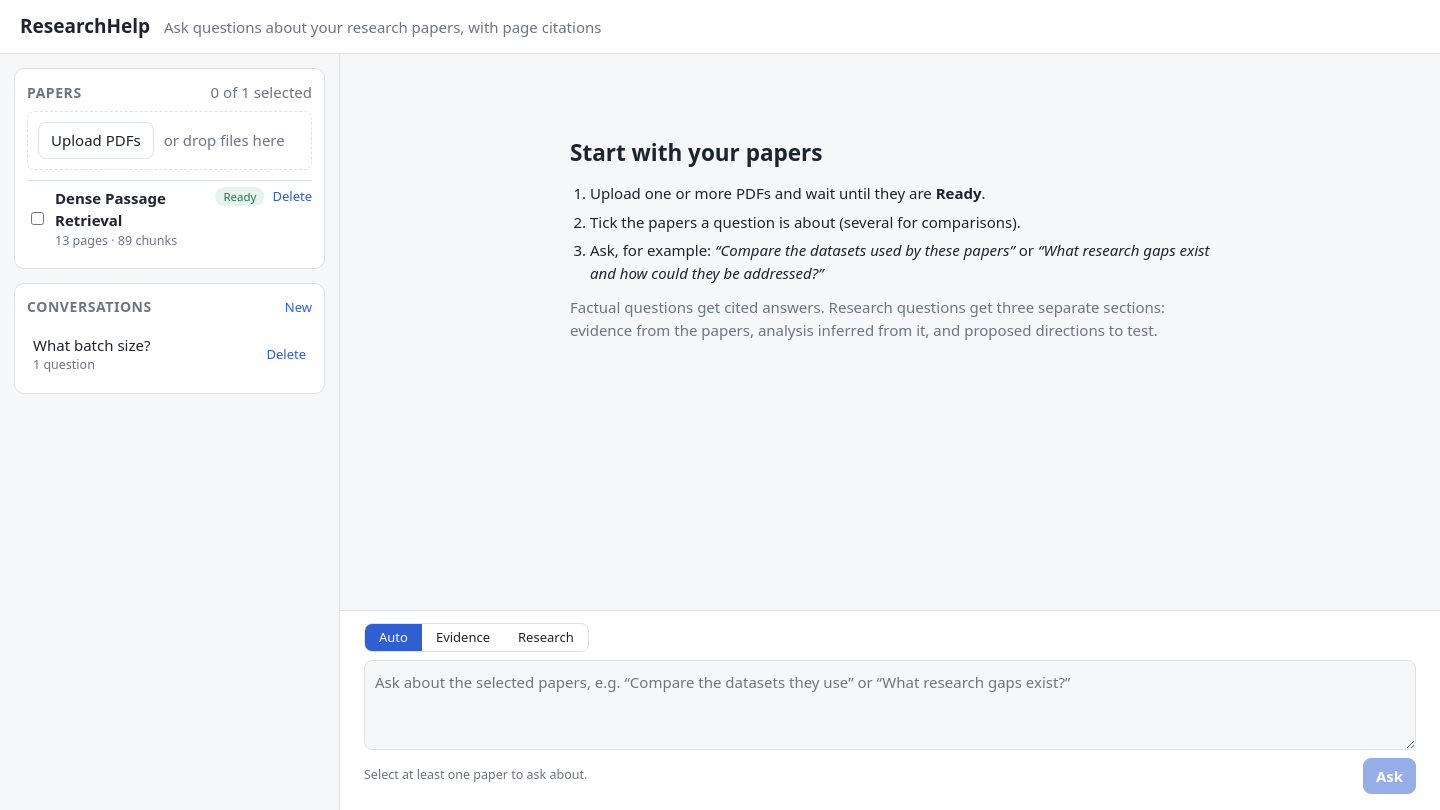
Test: App › deletes a conversation after confirmation and resets the view if it was open
Expected: the text "What batch size?" is shown, x1=33 y1=334 x2=150 y2=356
Click the button with aria-label "Delete conversation".
click(286, 354)  # box x1=266 y1=345 x2=306 y2=364
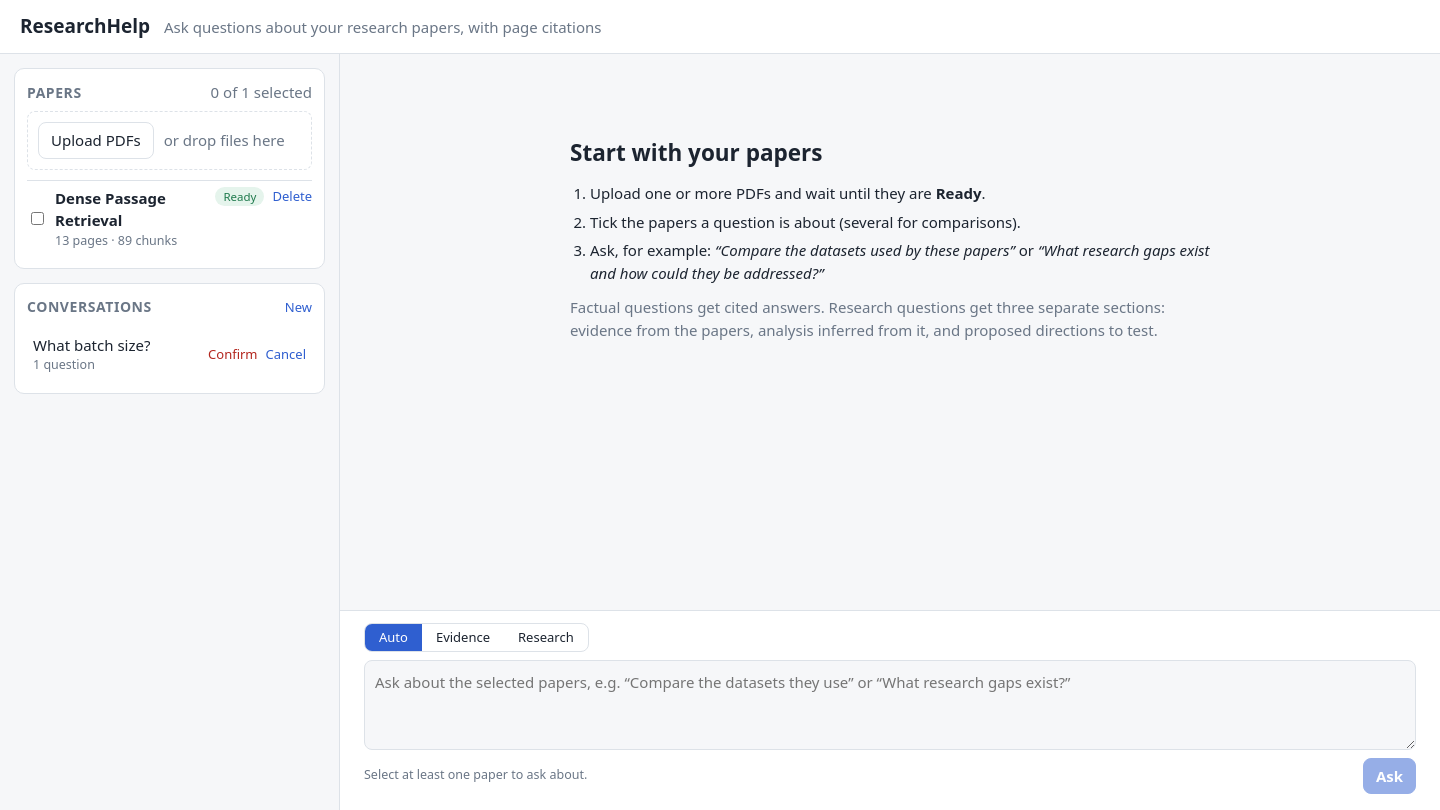
Click the button "Confirm".
click(233, 354)  # box x1=208 y1=345 x2=258 y2=364
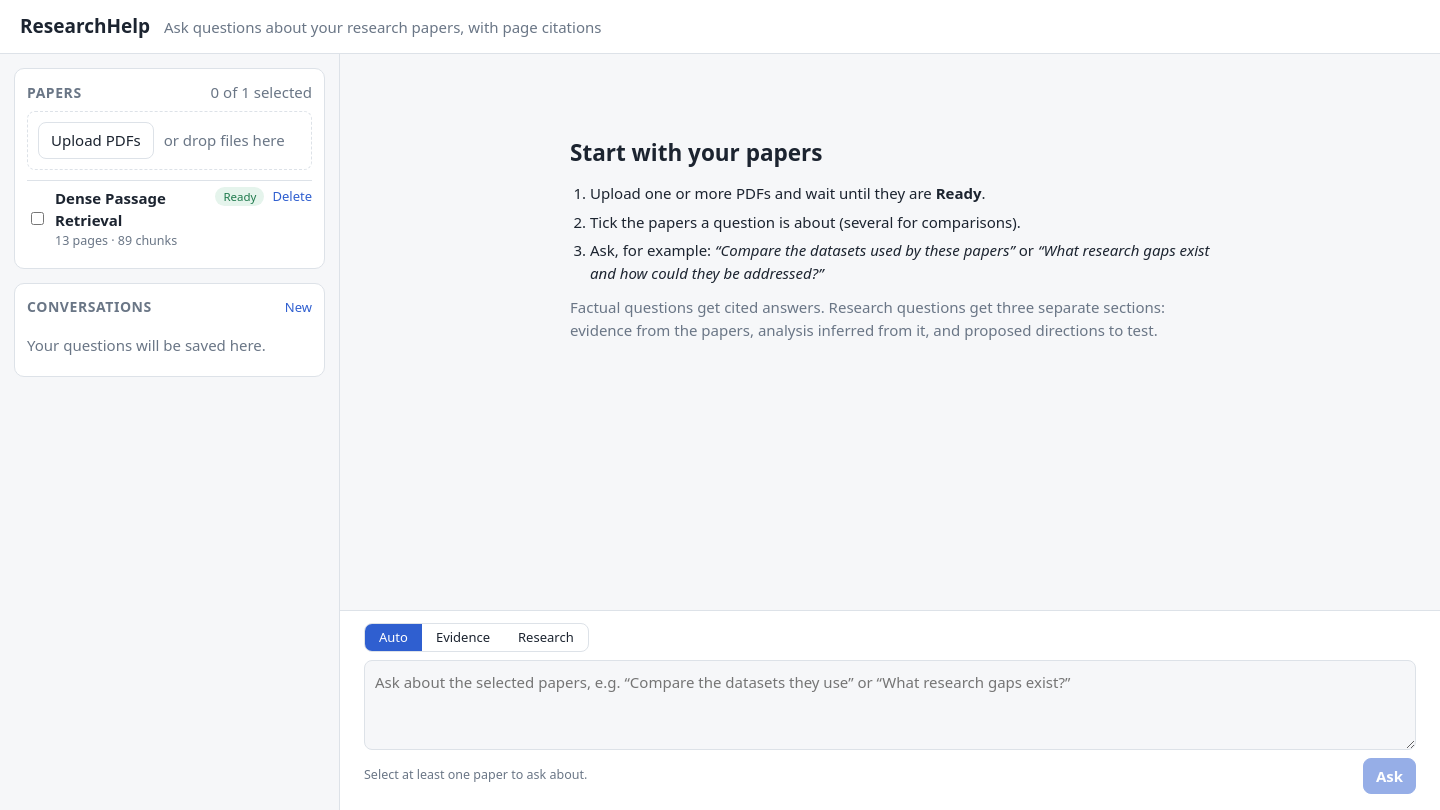
Expected: the text "Your questions will be saved here." is shown, x1=27 y1=335 x2=266 y2=355
